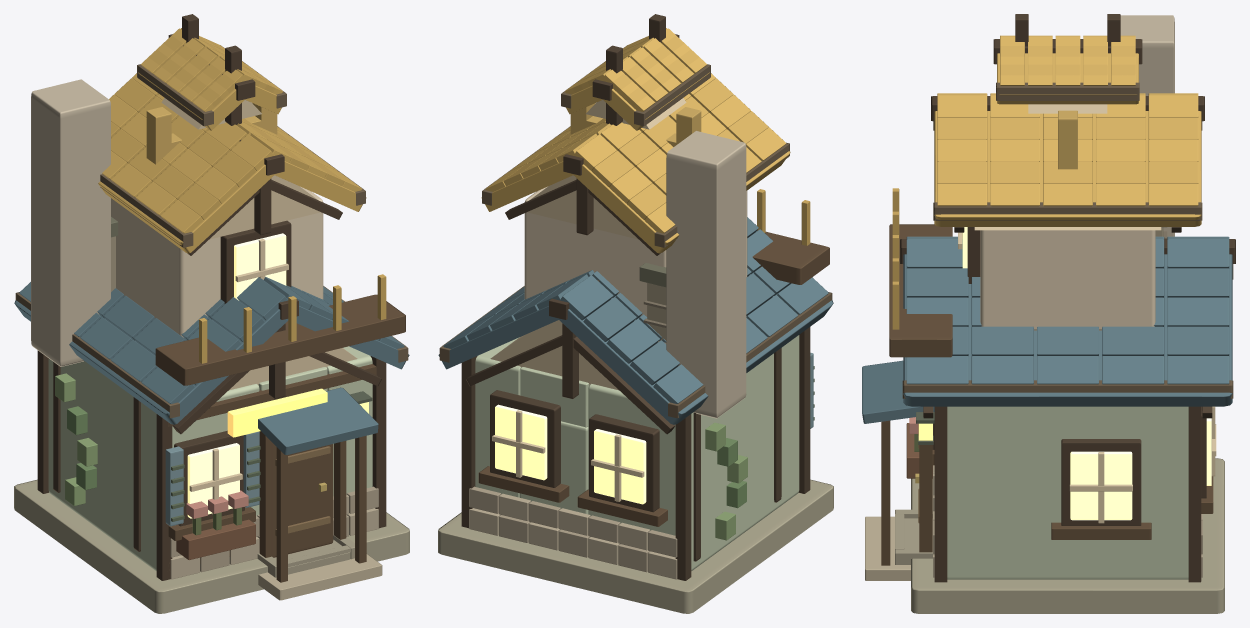
File: workshop-4-2.glb
3 views of the same model, side by side, from view 1: azimuth 30°, elevation 25°; view 2: azimuth 150°, elevation 25°; view 3: azimuth 270°, elevation 25° (orthographic). The views are drawn at different scales.
Parts seen in each view (by area): view 1: workshop-2-4, door-hinge; view 2: workshop-2-4; view 3: workshop-2-4.
Boxes of the visible parts, <box> form: workshop-2-4: <box>14,14,409,613</box>; door-hinge: <box>271,442,333,557</box>; workshop-2-4: <box>438,14,833,613</box>; workshop-2-4: <box>862,14,1235,613</box>.
Bounding box in the file's own units: 1.91 × 3.51 × 2.24.
